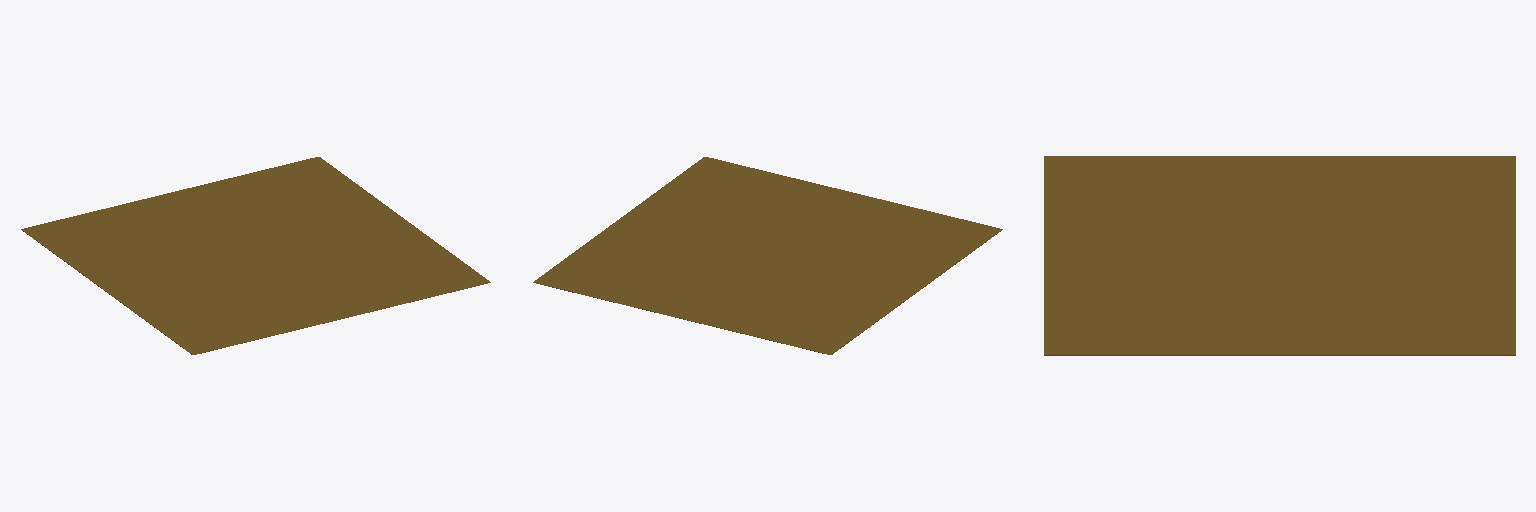
The robot description file, URDF, robot "plane":
<?xml version="1.0"?> 

<!-- Copyright 2023 Shathushan Sivashangaran -->

<!-- Licensed under the Apache License, Version 2.0 (the "License"); -->
<!-- you may not use this file except in compliance with the License. -->
<!-- You may obtain a copy of the License at -->

<!--     http://www.apache.org/licenses/LICENSE-2.0 -->

<!-- Unless required by applicable law or agreed to in writing, software -->
<!-- distributed under the License is distributed on an "AS IS" BASIS, -->
<!-- WITHOUT WARRANTIES OR CONDITIONS OF ANY KIND, either express or implied. -->
<!-- See the License for the specific language governing permissions and -->
<!-- limitations under the License. -->

<!-- Authors: Shathushan Sivashangaran, Apoorva Khairnar -->

<robot name="plane">
    <!-- Colors --> 
    <material name="brown"> 
        <color rgba="0.5 0.4 0.2 1"/>
    </material>

    <!-- Plane -->
    <link name="base_link">
        <visual> 
            <geometry> 
                <box size="20 20 0.01"/>
                <origin rpy="0 0 0" xyz="-10 -10 -0.005"/>
            </geometry>
            <material name="brown"/>
        </visual>
        <collision> 
             <geometry> 
                <box size="20 20 0.01"/>
                <origin rpy="0 0 0" xyz="-10 -10 -0.005"/>
            </geometry>
        </collision> 
        <inertial> 
            <mass value="0"/>
            <inertia ixx="0" ixy="0" ixz="0" iyy="0" iyz="0" izz="0"/>
        </inertial> 
        <contact> 
            <lateral_friction value="4"/>
        </contact>
    </link> 
</robot>

--- What the picture shows (computed from the rendered views, not written in the file) ---
Views: 3 orthographic renders of the robot side by side, from view 1: azimuth 30°, elevation 25°; view 2: azimuth 150°, elevation 25°; view 3: azimuth 270°, elevation 25°.
Robot: plane — 1 links, 0 joints (none); root link base_link; default pose: all joints at 0.
Links seen in each view (by area): view 1: base_link; view 2: base_link; view 3: base_link.
Boxes of the visible links, x1,y1,x2,y2 form: base_link: [21, 157, 490, 354]; base_link: [533, 157, 1002, 354]; base_link: [1044, 156, 1515, 355].
Size in the robot's own frame: 20 by 20 by 0.01 metres.
Geometry: primitives only (box / cylinder / sphere), no mesh files.
